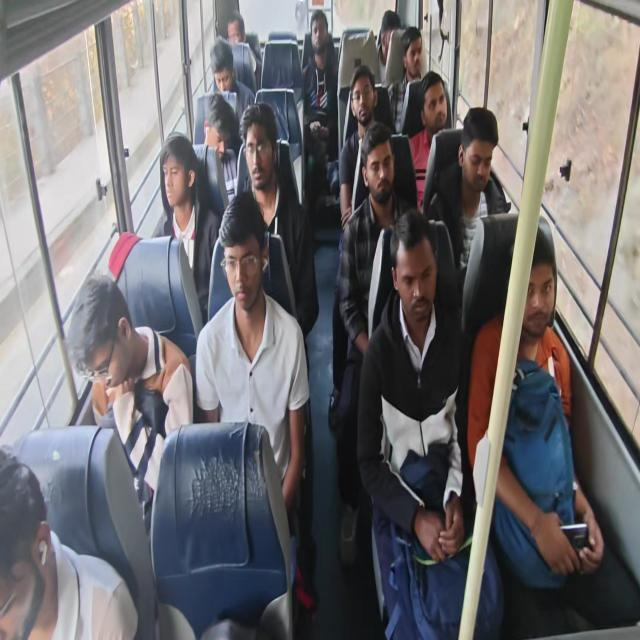person: (0, 454, 56, 634), (70, 290, 142, 383), (216, 215, 268, 318), (511, 242, 555, 338), (390, 230, 435, 323), (243, 117, 277, 198), (358, 131, 394, 197), (157, 154, 190, 222), (463, 111, 491, 191), (342, 71, 376, 121), (199, 111, 231, 164), (422, 84, 454, 132), (405, 34, 427, 80), (226, 14, 250, 56), (213, 52, 234, 99), (309, 15, 331, 57), (383, 15, 398, 50)
